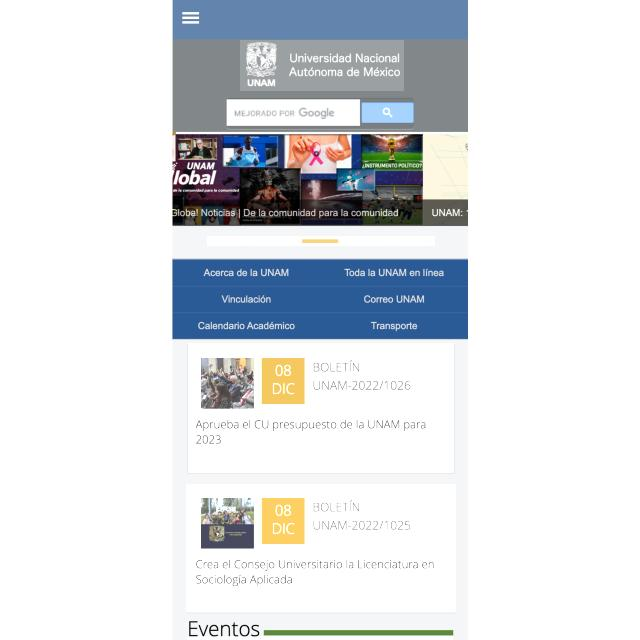CheckBox: (362, 103, 413, 123)
Spinner: (188, 343, 454, 473), (186, 484, 456, 612)
bag: (172, 0, 468, 132)
date picker: (240, 40, 404, 91)
decoration: (172, 258, 468, 340), (181, 10, 200, 25)
dropdown: (207, 236, 435, 246)
footer: (232, 106, 338, 120)
